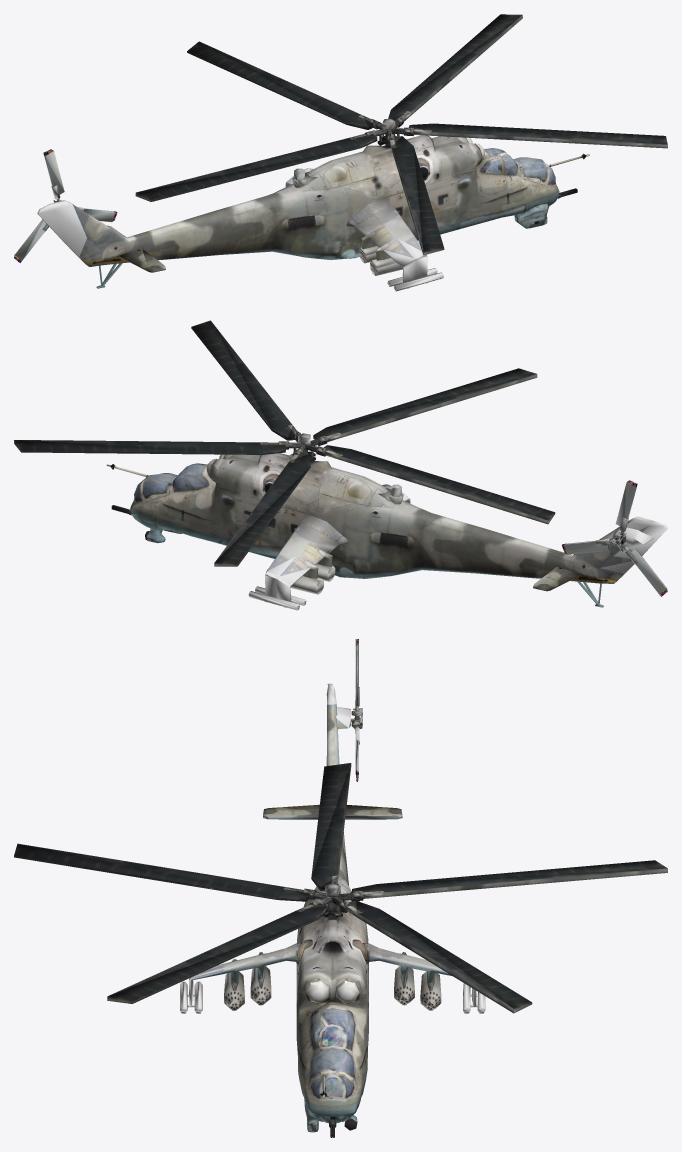
3 views of the same model, one above another, from view 1: azimuth 30°, elevation 25°; view 2: azimuth 150°, elevation 25°; view 3: azimuth 270°, elevation 25° (orthographic). The views are drawn at different scales.
Parts seen in each view (by area): view 1: g_mi24_hull, g_mi24_rotor, g_mi24_rotor2; view 2: g_mi24_hull, g_mi24_rotor, g_mi24_rotor2; view 3: g_mi24_hull, g_mi24_rotor, g_mi24_rotor2.
Boxes of the visible parts, <box> form: g_mi24_hull: <box>37,135,589,291</box>; g_mi24_rotor: <box>135,14,667,255</box>; g_mi24_rotor2: <box>14,149,117,262</box>; g_mi24_hull: <box>106,453,667,610</box>; g_mi24_rotor: <box>14,320,555,566</box>; g_mi24_rotor2: <box>562,480,667,596</box>; g_mi24_hull: <box>180,683,485,1137</box>; g_mi24_rotor: <box>14,763,667,1013</box>; g_mi24_rotor2: <box>351,639,362,781</box>.
Bounding box in the file's own units: 17.36 × 5.1 × 14.23.
Materials: 4 (3 with a texture image).
